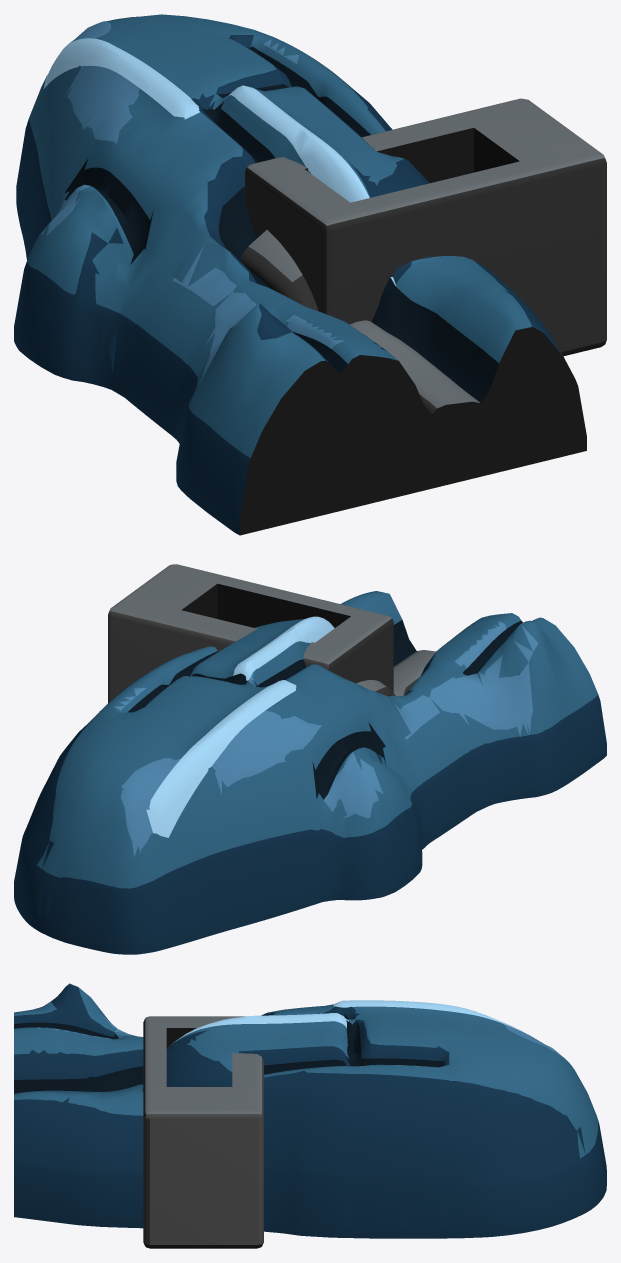
The model's file is blue_gate_tr.glb.
The picture shows the model from 3 angles, top to bottom: view 1: azimuth 30°, elevation 25°; view 2: azimuth 150°, elevation 25°; view 3: azimuth 270°, elevation 25°; orthographic projection. The views are drawn at different scales.
Visible parts, largest first — view 1: blue_gate_tr; view 2: blue_gate_tr; view 3: blue_gate_tr.
Part boxes in pixels (<box>): blue_gate_tr: <box>14,14,606,535</box>; blue_gate_tr: <box>14,564,606,954</box>; blue_gate_tr: <box>14,983,606,1248</box>.
Size of the model in its own units: 18 by 8.49 by 27.99.
